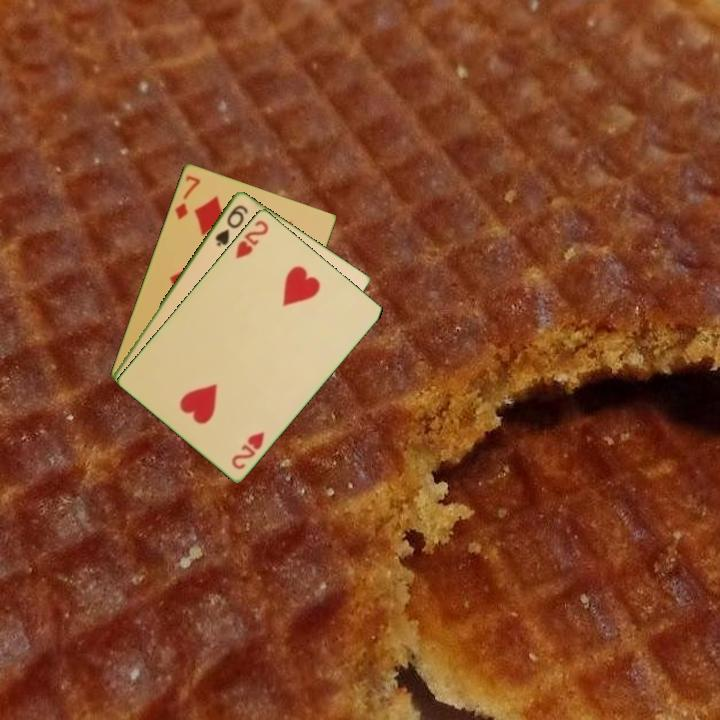2h: (228, 428, 268, 472), (232, 216, 271, 261)
6s: (211, 201, 251, 249)
7d: (171, 171, 203, 222)
